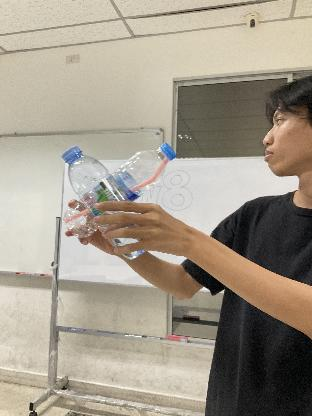Plastic Bottle: (62, 144, 156, 262), (62, 143, 176, 231)
